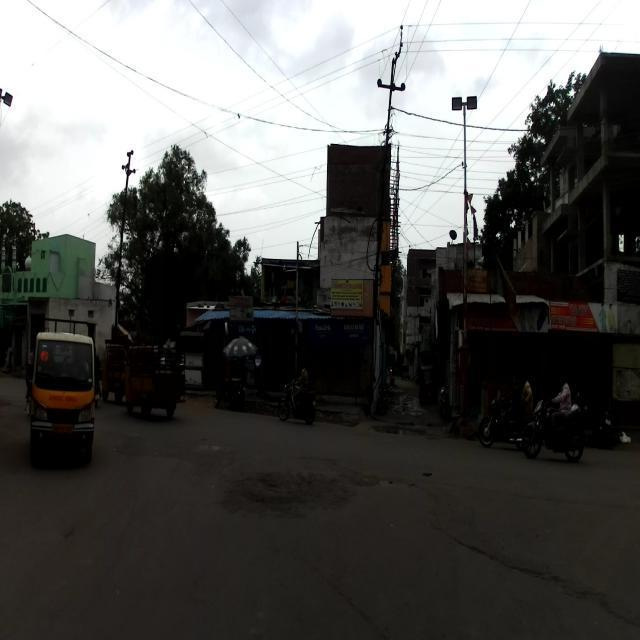Pothole: (212, 436, 427, 549)
